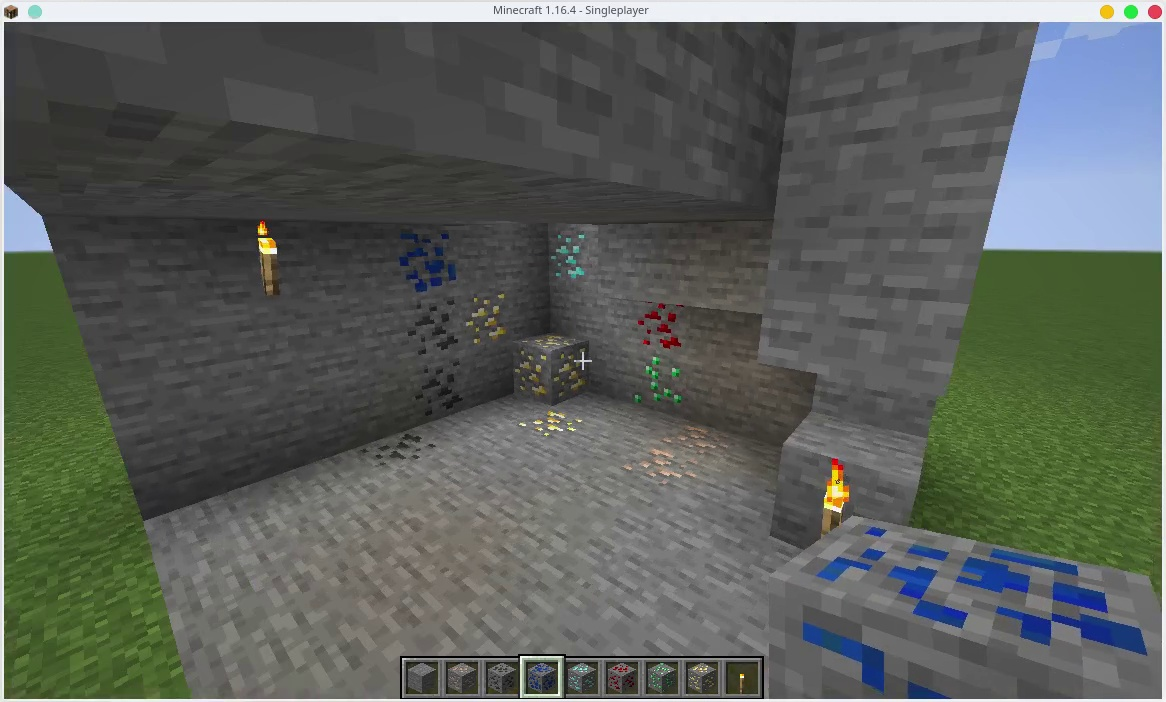gold: (514, 335, 595, 400), (463, 286, 508, 345), (512, 410, 595, 436), (686, 663, 717, 694)
